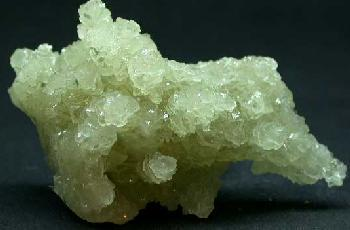prehnite: (6, 0, 349, 226)
